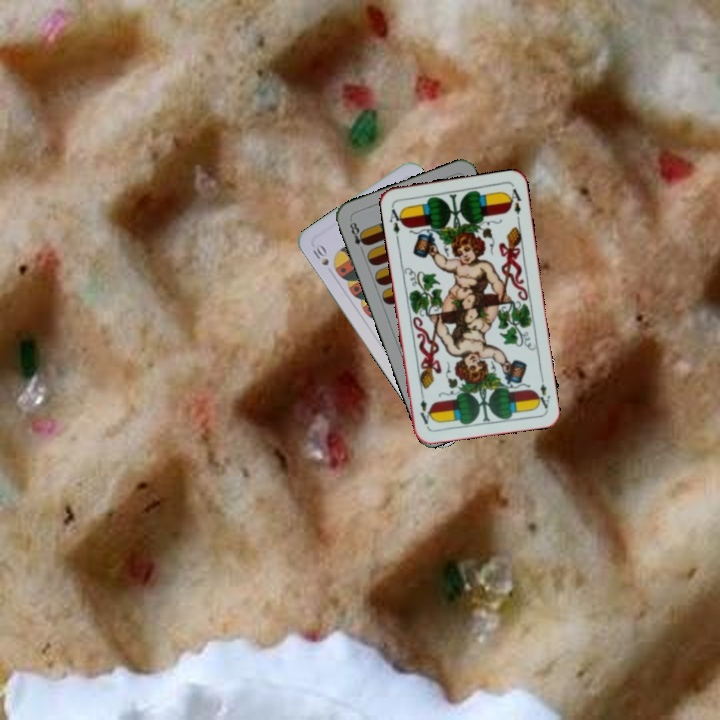E8: (346, 218, 370, 255)
EA: (532, 371, 553, 411), (386, 205, 406, 236)
S10: (308, 240, 332, 268)
